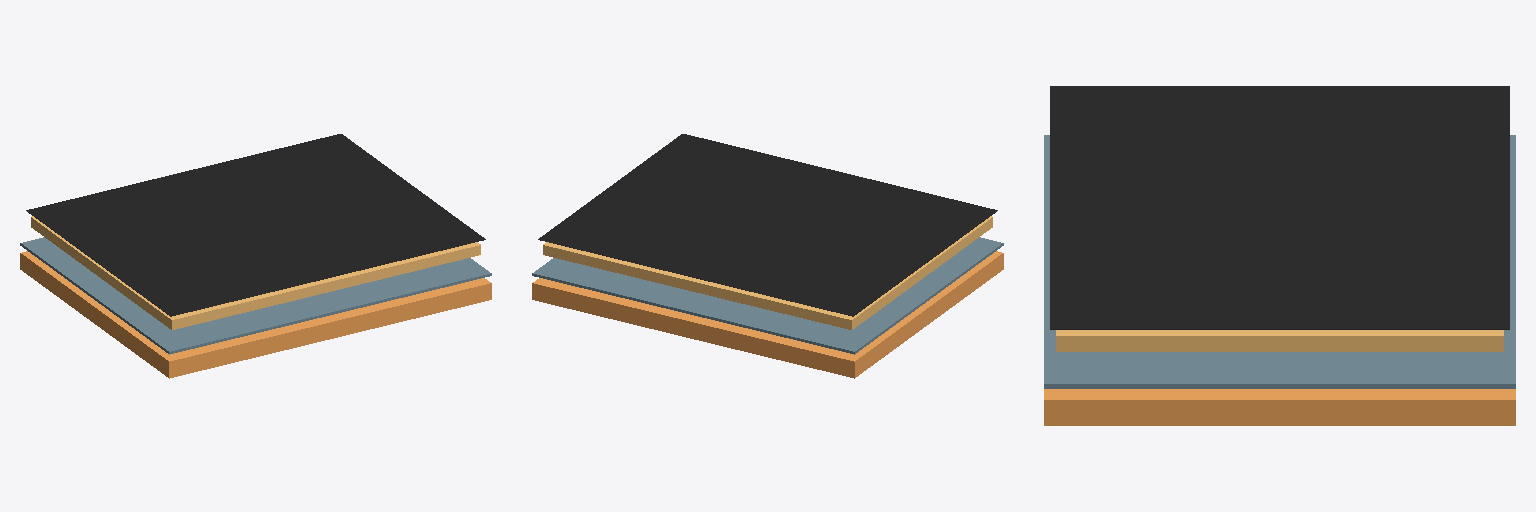
URDF robot description (air_cushion):
<?xml version="1.0"?>
<!--
  Simple URDF for Air Cushion (test nhanh không cần Gazebo dynamics)
  - 8x8 = 64 cells (visualized as one large box for simplicity)
  - Foam support layer below
  - Includes pressure sensor plugin (Gazebo)
-->
<robot name="air_cushion">

  <!-- Link: foam base (passive safety) -->
  <link name="foam_base">
    <visual>
      <origin xyz="0 0 0" rpy="0 0 0"/>
      <geometry>
        <box size="1.0 0.8 0.05"/>
      </geometry>
      <material name="foam_orange">
        <color rgba="1.0 0.7 0.4 1.0"/>
      </material>
    </visual>
    <collision>
      <origin xyz="0 0 0" rpy="0 0 0"/>
      <geometry>
        <box size="1.0 0.8 0.05"/>
      </geometry>
    </collision>
    <inertial>
      <mass value="0.5"/>
      <inertia ixx="0.01" ixy="0" ixz="0" iyy="0.01" iyz="0" izz="0.01"/>
    </inertial>
  </link>

  <link name="base_plate">
    <visual>
      <origin xyz="0 0 0.025" rpy="0 0 0"/>
      <geometry>
        <box size="1.0 0.8 0.008"/>
      </geometry>
      <material name="petg_gray">
        <color rgba="0.5 0.6 0.65 1.0"/>
      </material>
    </visual>
    <collision>
      <origin xyz="0 0 0.025" rpy="0 0 0"/>
      <geometry>
        <box size="1.0 0.8 0.008"/>
      </geometry>
    </collision>
    <inertial>
      <mass value="1.2"/>
      <inertia ixx="0.04" ixy="0" ixz="0" iyy="0.05" iyz="0" izz="0.08"/>
    </inertial>
  </link>

  <joint name="base_to_foam" type="fixed">
    <parent link="foam_base"/>
    <child link="base_plate"/>
    <origin xyz="0 0 0.025" rpy="0 0 0"/>
  </joint>

  <link name="air_cell_layer">
    <visual>
      <origin xyz="0 0 0.066" rpy="0 0 0"/>
      <geometry>
        <box size="0.96 0.76 0.030"/>
      </geometry>
      <material name="silicone_orange">
        <color rgba="1.0 0.8 0.5 0.6"/>
      </material>
    </visual>
    <collision>
      <origin xyz="0 0 0.066" rpy="0 0 0"/>
      <geometry>
        <box size="0.96 0.76 0.030"/>
      </geometry>
    </collision>
    <inertial>
      <mass value="0.3"/>
      <inertia ixx="0.01" ixy="0" ixz="0" iyy="0.01" iyz="0" izz="0.02"/>
    </inertial>
  </link>

  <joint name="cell_to_base" type="fixed">
    <parent link="base_plate"/>
    <child link="air_cell_layer"/>
    <origin xyz="0 0 0.029" rpy="0 0 0"/>
  </joint>

  <link name="sensor_mat">
    <visual>
      <origin xyz="0 0 0.082" rpy="0 0 0"/>
      <geometry>
        <box size="0.98 0.78 0.0005"/>
      </geometry>
      <material name="velostat_dark">
        <color rgba="0.2 0.2 0.2 1.0"/>
      </material>
    </visual>
    <collision>
      <origin xyz="0 0 0.082" rpy="0 0 0"/>
      <geometry>
        <box size="0.98 0.78 0.0005"/>
      </geometry>
    </collision>
    <inertial>
      <mass value="0.05"/>
      <inertia ixx="0.001" ixy="0" ixz="0" iyy="0.001" iyz="0" izz="0.001"/>
    </inertial>
  </link>

  <joint name="sensor_to_cell" type="fixed">
    <parent link="air_cell_layer"/>
    <child link="sensor_mat"/>
    <origin xyz="0 0 0.016" rpy="0 0 0"/>
  </joint>

  <link name="sacrum_sensor_link"/>
  <joint name="sacrum_sensor_joint" type="fixed">
    <parent link="sensor_mat"/>
    <child link="sacrum_sensor_link"/>
    <origin xyz="0 0 0.001" rpy="0 0 0"/>
  </joint>

  <gazebo>
    <plugin name="cushion_gazebo_plugin" filename="libcushion_plugin.so">
      <n_cells>64</n_cells>
      <rows>8</rows>
      <cols>8</cols>
      <max_pressure>80.0</max_pressure>
      <response_time>0.3</response_time>
      <update_rate>10.0</update_rate>
      <topic_pressure>/cushion/pressure</topic_pressure>
      <topic_cmd>/cushion/cmd</topic_cmd>
    </plugin>
  </gazebo>

</robot>

--- What the picture shows (computed from the rendered views, not written in the file) ---
3 views of the same robot in one strip: view 1: azimuth 30°, elevation 25°; view 2: azimuth 150°, elevation 25°; view 3: azimuth 270°, elevation 25° (orthographic).
Robot: air_cushion — 5 links, 4 joints (4 fixed); root link foam_base; default pose: all joints at 0.
Links seen in each view (by area): view 1: sensor_mat, foam_base, base_plate, air_cell_layer; view 2: sensor_mat, foam_base, base_plate, air_cell_layer; view 3: sensor_mat, base_plate, foam_base, air_cell_layer.
Boxes of the visible links, bbox=[...] form: sensor_mat: bbox=[26, 134, 485, 316]; foam_base: bbox=[20, 251, 491, 378]; base_plate: bbox=[20, 237, 491, 354]; air_cell_layer: bbox=[31, 216, 480, 329]; sensor_mat: bbox=[538, 134, 997, 316]; foam_base: bbox=[532, 251, 1003, 378]; base_plate: bbox=[532, 237, 1003, 354]; air_cell_layer: bbox=[543, 216, 992, 329]; sensor_mat: bbox=[1050, 86, 1509, 329]; base_plate: bbox=[1044, 135, 1515, 388]; foam_base: bbox=[1044, 389, 1515, 425]; air_cell_layer: bbox=[1056, 330, 1503, 351].
Size in the robot's own frame: 1 by 0.8 by 0.1773 metres.
Geometry: primitives only (box / cylinder / sphere), no mesh files.
